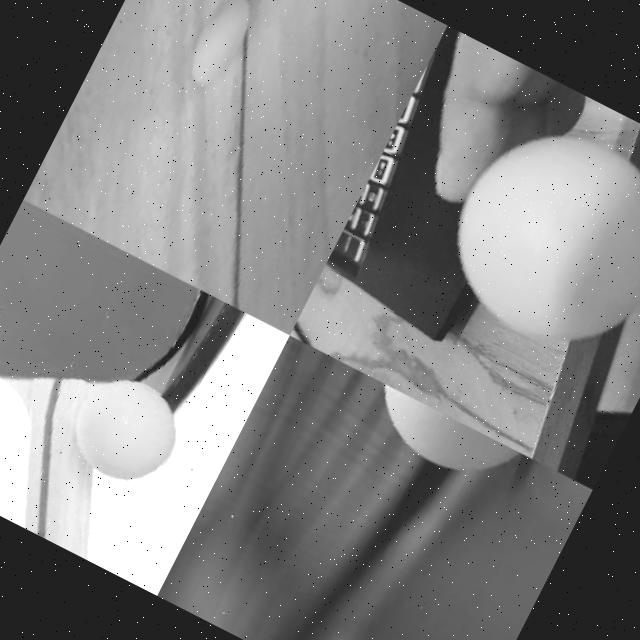ping-pong-ball: (419, 103, 640, 374), (353, 380, 528, 502), (60, 364, 192, 494), (178, 0, 258, 90)
